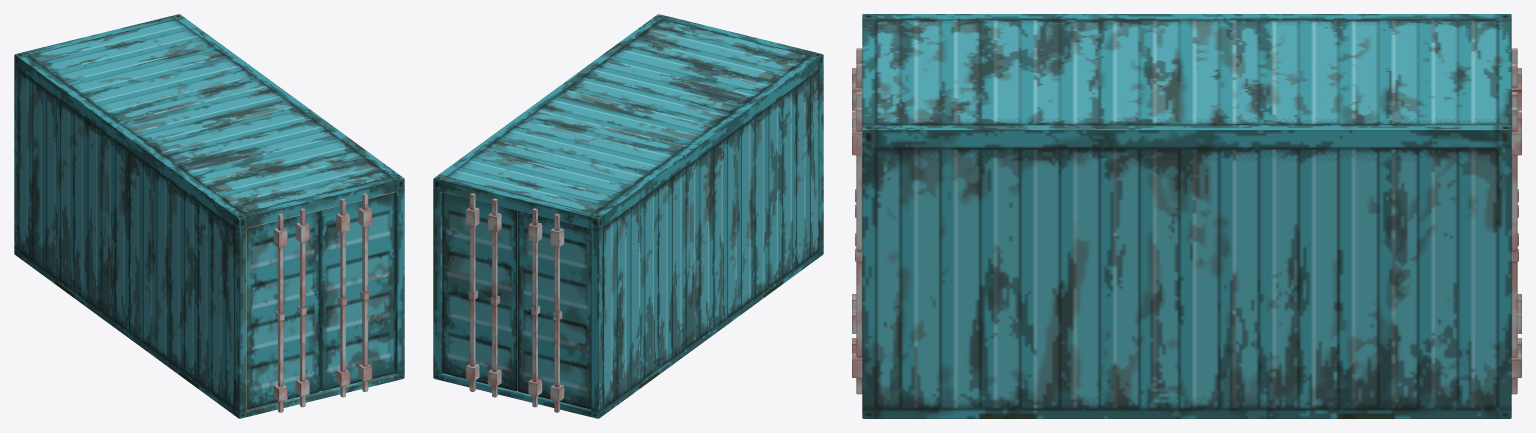
File: Shipping Container FBX.fbx
3 views of the same model, side by side, from view 1: azimuth 30°, elevation 25°; view 2: azimuth 150°, elevation 25°; view 3: azimuth 270°, elevation 25° (orthographic). The views are drawn at different scales.
Parts seen in each view (by area): view 1: Body, Door1_Left_1, Door1_Right_1, Handle_4, Handle_5, Handle_7, Handle_6; view 2: Body, Door1_Left, Door1_Right, Handle, Handle_1, Handle_3, Handle_2; view 3: Body, Handle_4, Handle.
Part boxes in pixels (x1=…): Body: x1=14, y1=14, x2=404, y2=418; Door1_Left_1: x1=320, y1=192, x2=395, y2=391; Door1_Right_1: x1=246, y1=211, x2=319, y2=409; Handle_4: x1=358, y1=193, x2=372, y2=391; Handle_5: x1=336, y1=198, x2=350, y2=397; Handle_7: x1=295, y1=208, x2=309, y2=407; Handle_6: x1=273, y1=213, x2=287, y2=412; Body: x1=433, y1=14, x2=823, y2=418; Door1_Left: x1=442, y1=192, x2=517, y2=391; Door1_Right: x1=518, y1=211, x2=591, y2=409; Handle: x1=465, y1=193, x2=479, y2=391; Handle_1: x1=487, y1=198, x2=501, y2=397; Handle_3: x1=528, y1=208, x2=542, y2=407; Handle_2: x1=550, y1=213, x2=564, y2=412; Body: x1=862, y1=14, x2=1511, y2=418; Handle_4: x1=852, y1=107, x2=862, y2=394; Handle: x1=1511, y1=107, x2=1521, y2=394.
Size of the model in its own units: 562 by 656 by 1368.
Materials: 1 (1 with a texture image).
